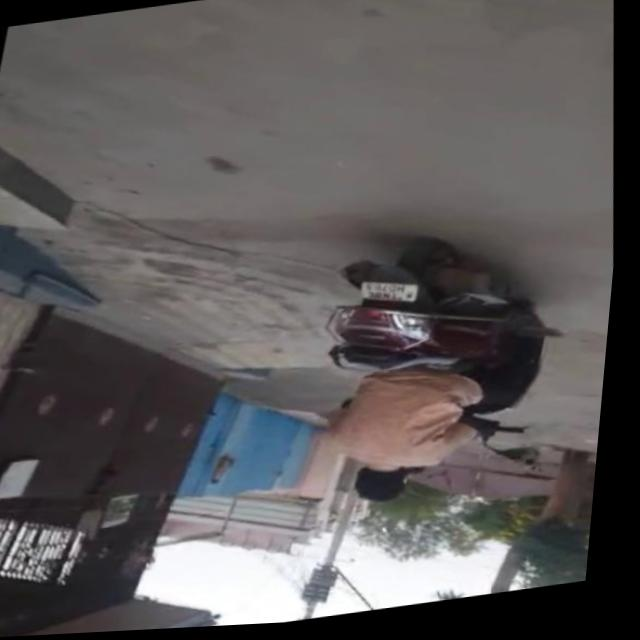USING_MOBILE: (393, 416, 514, 513)
